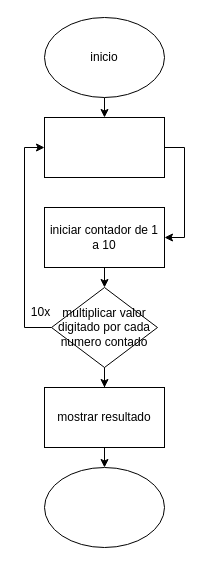
The diagram is 210 pixels wide and 565 high, and some of its shapes have lost their labels. Each missing label, with the centre of its shape:
"fim" belongs at point (104, 507).
"obter valor do input" belongs at point (104, 147).
